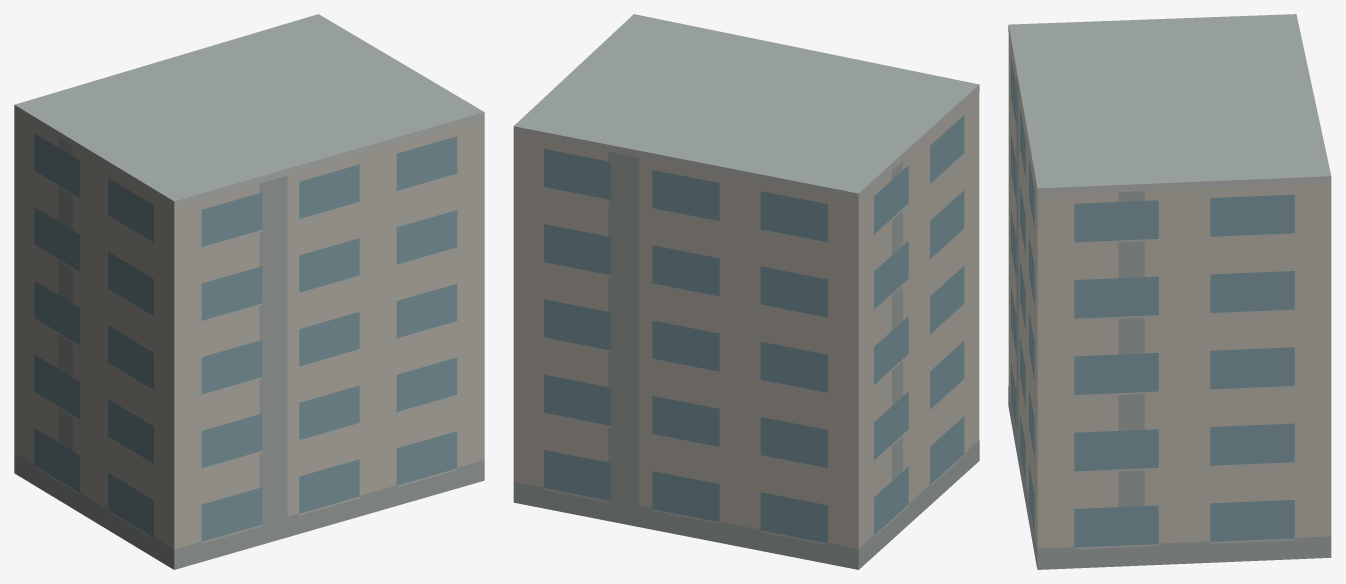
The model's file is survey-upis-32620597.glb.
3 views of the same model, side by side, from view 1: azimuth 30°, elevation 25°; view 2: azimuth 150°, elevation 25°; view 3: azimuth 270°, elevation 25° (orthographic). The views are drawn at different scales.
Visible parts, largest first — view 1: survey-upis-32620597.tmp; view 2: survey-upis-32620597.tmp; view 3: survey-upis-32620597.tmp.
Part boxes in pixels (<box>): survey-upis-32620597.tmp: <box>14,14,484,569</box>; survey-upis-32620597.tmp: <box>513,14,979,569</box>; survey-upis-32620597.tmp: <box>1008,14,1331,569</box>.
Bounding box in the file's own units: 12.95 × 13.2 × 10.13.
